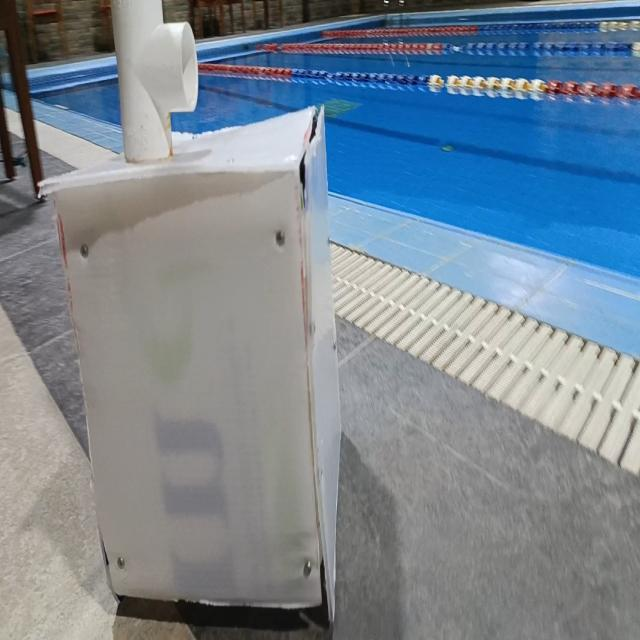Cube: (37, 102, 342, 619)
